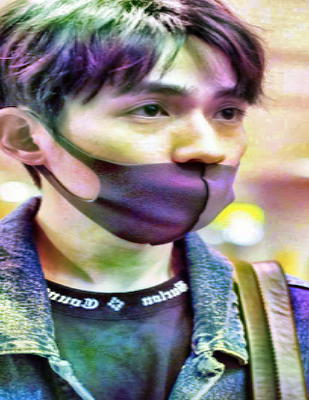mask_weared_incorrect: (67, 80, 252, 247)
